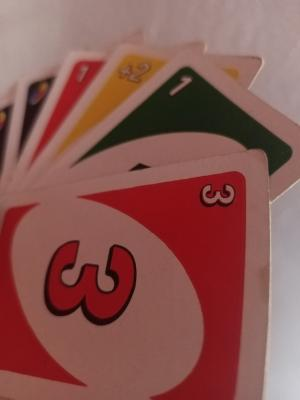-2: (110, 53, 157, 91)
num_1: (68, 57, 100, 92), (164, 71, 197, 101)
num_3: (191, 178, 242, 213)
